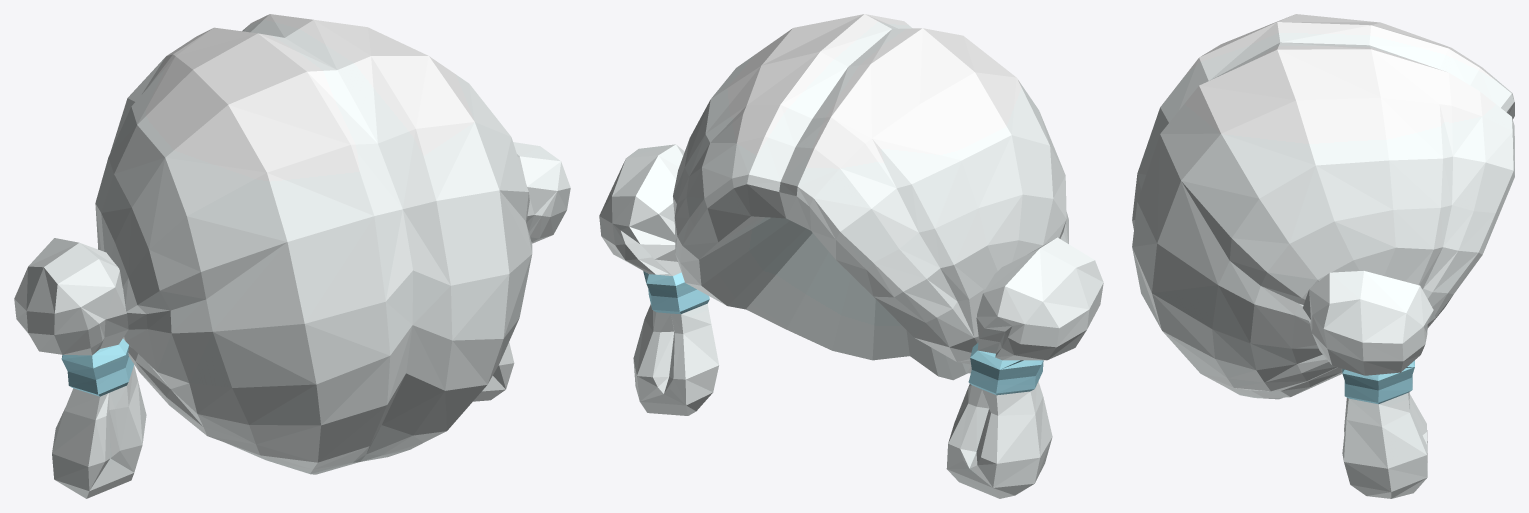
The model's file is CharSkyKid_Hair_AP08DoubleBun_01.glb.
3 renders of one model, left to right at view 1: azimuth 30°, elevation 25°; view 2: azimuth 150°, elevation 25°; view 3: azimuth 270°, elevation 25°, orthographic. The views are drawn at different scales.
Visible parts, largest first — view 1: CharSkyKid_Hair_AP08DoubleBun_01; view 2: CharSkyKid_Hair_AP08DoubleBun_01; view 3: CharSkyKid_Hair_AP08DoubleBun_01.
Part boxes in pixels (<box>): CharSkyKid_Hair_AP08DoubleBun_01: <box>14,14,570,498</box>; CharSkyKid_Hair_AP08DoubleBun_01: <box>599,14,1103,498</box>; CharSkyKid_Hair_AP08DoubleBun_01: <box>1132,14,1514,498</box>.
Size of the model in its own units: 3.96 by 3.06 by 2.81.
Materials: 1 (1 with a texture image).
